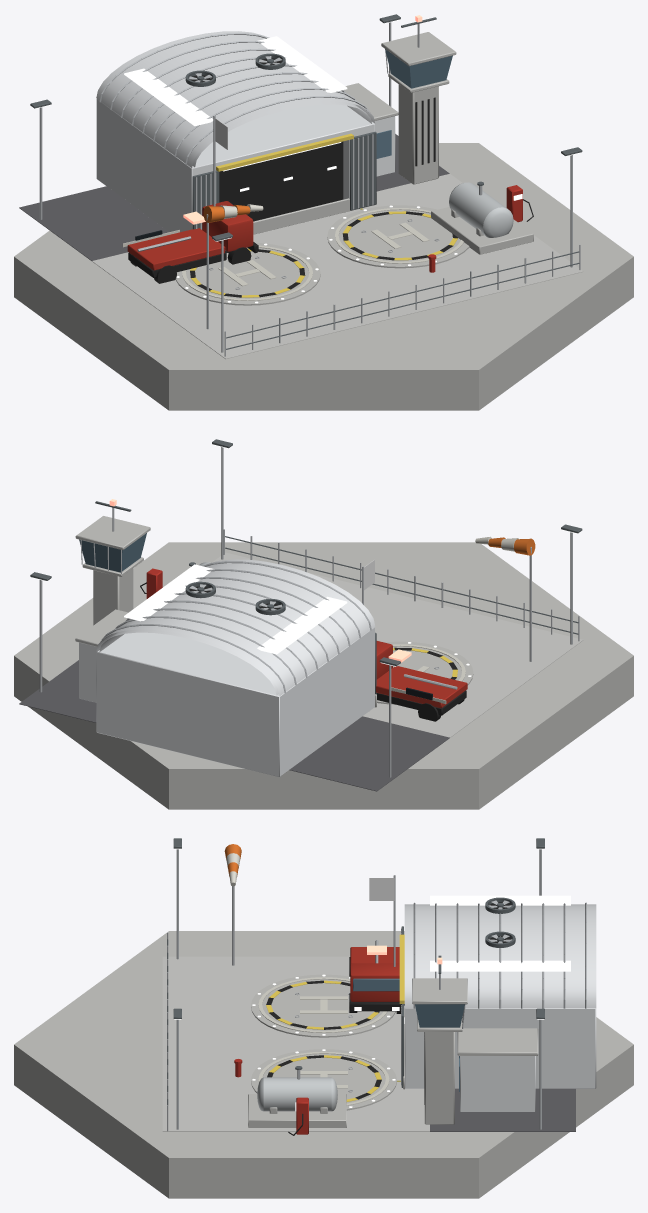
The model's file is helipad.glb.
The picture shows the model from 3 angles, top to bottom: view 1: azimuth 30°, elevation 25°; view 2: azimuth 150°, elevation 25°; view 3: azimuth 270°, elevation 25°; orthographic projection.
Parts seen in each view (by area): view 1: wall_concrete, cladding, pavers, paint, dark, metal, asphalt, steel_dark, glow_warm, glass, hazard; view 2: wall_concrete, cladding, pavers, asphalt, metal, paint, glow_warm, steel_dark, glass, dark; view 3: wall_concrete, cladding, pavers, paint, metal, asphalt, glow_warm, glass, steel_dark, dark, hazard, banner.
Part boxes in pixels (left/top/right/bottom): wall_concrete: left=14, top=32, right=633, bottom=410; cladding: left=96, top=31, right=395, bottom=232; pavers: left=92, top=174, right=583, bottom=359; paint: left=122, top=182, right=522, bottom=300; dark: left=128, top=58, right=533, bottom=297; metal: left=39, top=22, right=580, bottom=356; asphalt: left=19, top=134, right=449, bottom=260; steel_dark: left=30, top=14, right=582, bottom=349; glow_warm: left=32, top=19, right=581, bottom=303; glass: left=376, top=49, right=452, bottom=158; hazard: left=190, top=133, right=457, bottom=297; wall_concrete: left=14, top=516, right=633, bottom=809; cladding: left=79, top=559, right=375, bottom=776; pavers: left=212, top=552, right=583, bottom=737; asphalt: left=19, top=660, right=449, bottom=791; metal: left=39, top=447, right=579, bottom=777; paint: left=146, top=536, right=535, bottom=708; glow_warm: left=31, top=444, right=579, bottom=676; steel_dark: left=30, top=439, right=582, bottom=694; glass: left=79, top=533, right=146, bottom=572; dark: left=140, top=582, right=466, bottom=721; wall_concrete: left=14, top=931, right=633, bottom=1198; cladding: left=404, top=904, right=596, bottom=1111; pavers: left=162, top=956, right=429, bottom=1131; paint: left=224, top=844, right=399, bottom=1134; metal: left=167, top=849, right=586, bottom=1131; asphalt: left=430, top=1088, right=575, bottom=1131; glow_warm: left=174, top=848, right=570, bottom=1107; glass: left=353, top=978, right=464, bottom=1091; steel_dark: left=167, top=838, right=544, bottom=1105; dark: left=266, top=902, right=511, bottom=1135; hazard: left=266, top=934, right=404, bottom=1101; banner: left=369, top=878, right=394, bottom=900.
Bounding box in the file's own units: 21.3 × 8.8 × 24.6.
